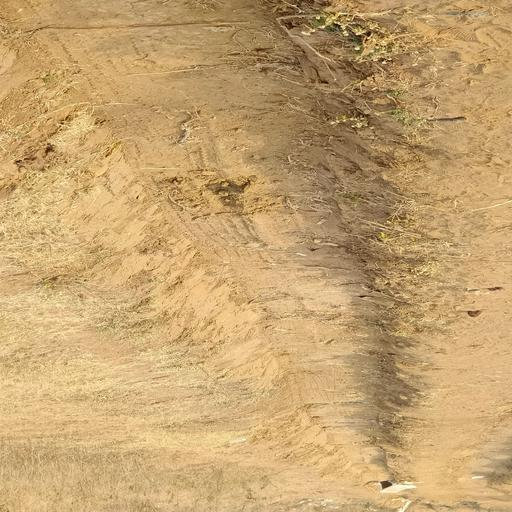vehicle_track: (0, 0, 388, 472)
